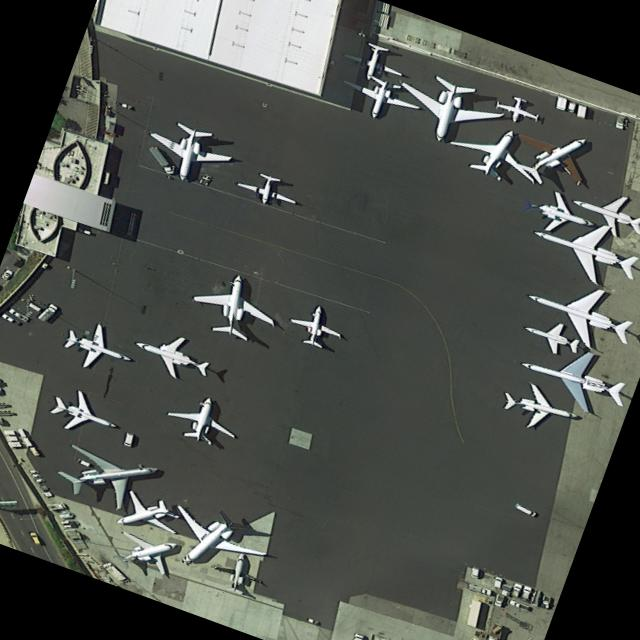large-vehicle: (146, 146, 175, 175), (35, 303, 57, 323), (465, 582, 490, 596), (352, 632, 365, 640)
plane: (137, 491, 280, 595), (424, 103, 565, 199), (513, 262, 640, 363), (388, 64, 511, 159), (522, 201, 640, 296), (515, 332, 629, 423), (38, 437, 180, 509), (183, 263, 282, 349), (142, 113, 234, 195), (52, 312, 141, 384), (130, 320, 216, 391), (159, 384, 244, 455), (334, 66, 425, 132), (93, 485, 194, 543), (499, 374, 580, 443), (43, 382, 123, 445), (567, 177, 640, 245), (103, 526, 197, 577), (531, 186, 600, 245), (339, 34, 408, 90), (284, 298, 347, 355), (207, 544, 270, 600), (233, 165, 301, 212), (518, 312, 581, 362), (492, 90, 541, 129)
small-vehicle: (513, 503, 536, 517), (7, 308, 28, 322), (0, 313, 21, 326), (508, 599, 529, 611), (518, 586, 532, 602), (121, 432, 134, 448), (509, 582, 521, 598), (27, 532, 41, 545), (11, 257, 26, 268), (0, 269, 13, 280), (493, 594, 504, 607), (492, 576, 503, 589), (614, 115, 623, 130), (565, 100, 575, 113), (469, 566, 478, 579)
